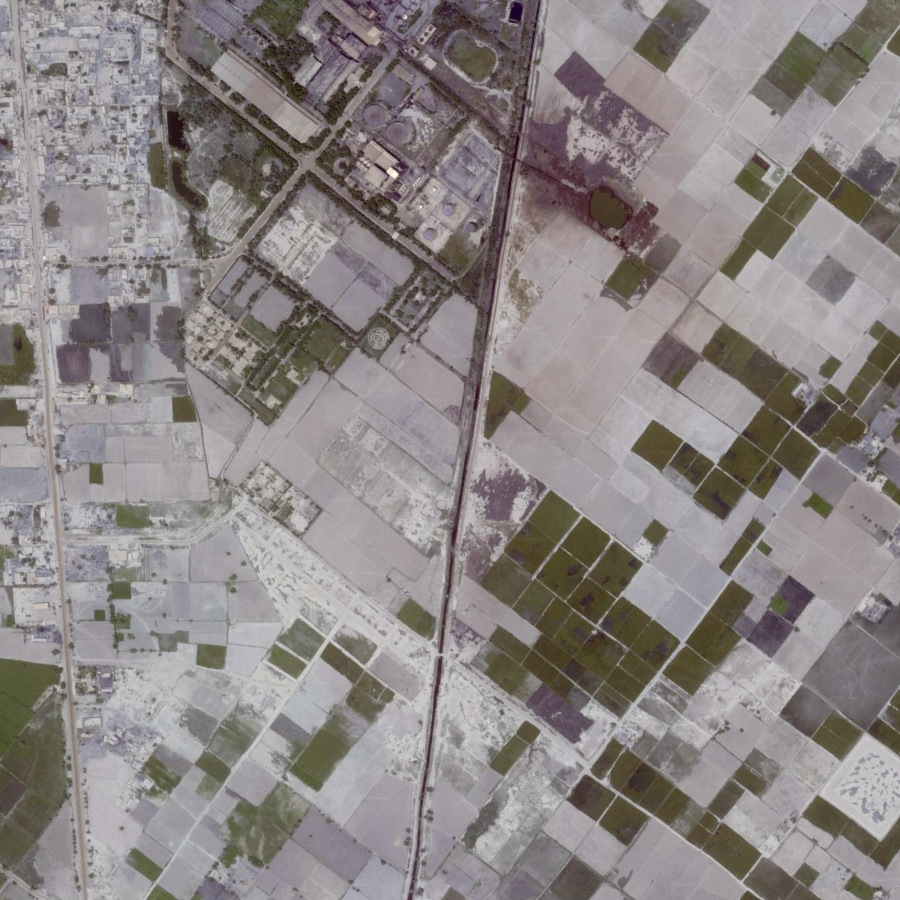PowerPlant: (309, 31, 499, 249)
